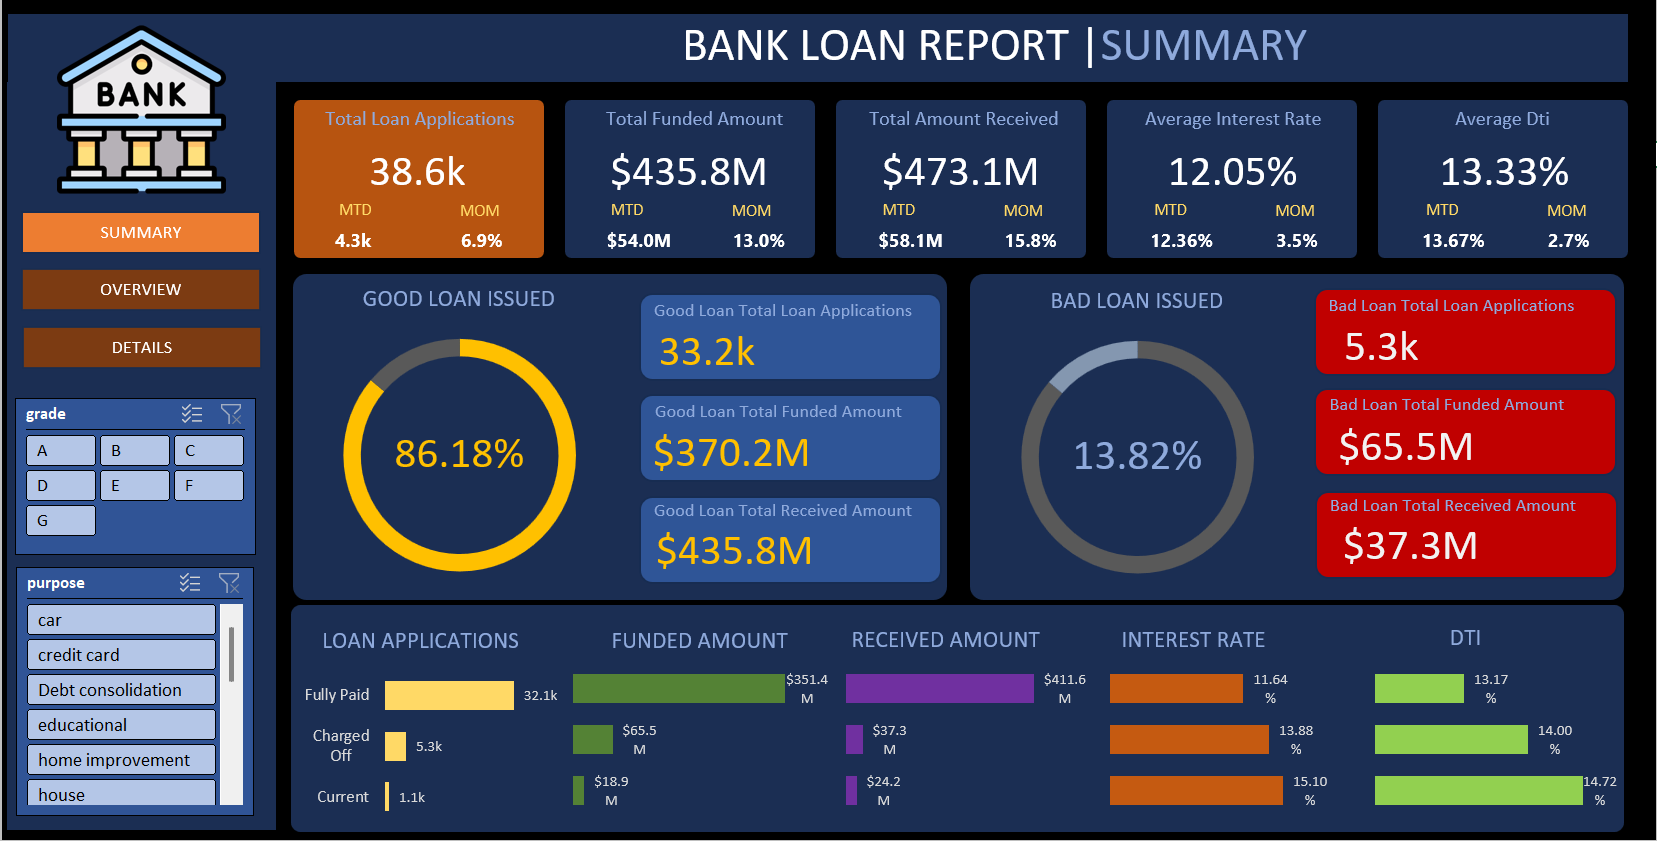

The dashboard page shown, as its layout file describes it:
{"tool":"powerbi","page":{"name":"Summary","canvas":[1280,720],"ordinal":0},"visuals":[{"type":"shape","box":[0,0,1280,55],"z":0},{"type":"shape","box":[1057.1,65.7,195,117],"z":0,"group":"g5"},{"type":"shape","box":[209,67,195,117],"z":0,"group":"g1"},{"type":"shape","box":[421.4,67,195,117],"z":0,"group":"g2"},{"type":"shape","box":[633.7,67,195,117],"z":0,"group":"g3"},{"type":"shape","box":[846.1,67.1,195,117],"z":0,"group":"g4"},{"type":"shape","box":[0,55,192,665],"z":1000},{"type":"card","fields":{"Values":["Measure table.Average_DTI"]},"box":[1075.1,73.7,159,75],"z":1000,"group":"g5"},{"type":"card","fields":{"Values":["Measure table.Total_Loan_Application"]},"box":[236,75,147,69],"z":1000,"group":"g1"},{"type":"card","fields":{"Values":["Measure table.Total Funded Amount"]},"box":[439.4,75,159,75],"z":1000,"group":"g2"},{"type":"card","fields":{"Values":["Measure table.Total Received Amount"]},"box":[651.7,75,159,75],"z":1000,"group":"g3"},{"type":"card","fields":{"Values":["Measure table.Average_interest_rate"]},"box":[864.1,75.1,159,75],"z":1000,"group":"g4"},{"type":"textbox","box":[1059.1,73.7,195,32],"z":2000,"group":"g5"},{"type":"textbox","box":[211,75,195,32],"z":2000,"group":"g1"},{"type":"textbox","box":[423.4,75,195,32],"z":2000,"group":"g2"},{"type":"textbox","box":[635.7,75,195,32],"z":2000,"group":"g3"},{"type":"textbox","box":[848.1,75.1,195,32],"z":2000,"group":"g4"},{"type":"textbox","box":[212.2,207.8,194.4,32.2],"z":2000},{"type":"card","title":"MTD","fields":{"Values":["Measure table.MTD_Avg_dti"]},"box":[1071.1,124.7,66,58],"z":3000,"group":"g5"},{"type":"card","title":"MTD","fields":{"Values":["Measure table.MTD_Loan_Application"]},"box":[223,126,66,58],"z":3000,"group":"g1"},{"type":"card","title":"MTD","fields":{"Values":["Measure table.MTD_funded_amount"]},"box":[435.4,126,66,58],"z":3000,"group":"g2"},{"type":"card","title":"MTD","fields":{"Values":["Measure table.MTD_Received_amount"]},"box":[647.7,126,66,58],"z":3000,"group":"g3"},{"type":"card","title":"MTD","fields":{"Values":["Measure table.MTD_interest_rate"]},"box":[860.1,126.1,66,58],"z":3000,"group":"g4"},{"type":"textbox","box":[223.3,202.2,194.4,32.2],"z":3000},{"type":"card","title":"MOM","fields":{"Values":["Measure table.Mom Average DTI"]},"box":[1165.1,124.7,66,58],"z":4000,"group":"g5"},{"type":"card","title":"MOM","fields":{"Values":["Measure table.mom Loan Application"]},"box":[317,126,66,58],"z":4000,"group":"g1"},{"type":"card","title":"MOM","fields":{"Values":["Measure table.Mom funded Amount"]},"box":[529.4,126,66,58],"z":4000,"group":"g2"},{"type":"card","title":"MOM","fields":{"Values":["Measure table.Mom Received Amount"]},"box":[741.7,126,66,58],"z":4000,"group":"g3"},{"type":"card","title":"MOM","fields":{"Values":["Measure table.Mom interest Rate"]},"box":[954.1,126.1,66,58],"z":4000,"group":"g4"},{"type":"shape","box":[197.8,202.2,522,260],"z":4000},{"type":"textbox","box":[416,7,448,43],"z":5000},{"type":"group","id":"g1","title":"Group 1","box":[209,67,197,117],"z":6000},{"type":"group","id":"g2","title":"Group 1","box":[421.4,67,197,117],"z":7000},{"type":"group","id":"g3","title":"Group 1","box":[633.7,67,197,117],"z":8000},{"type":"group","id":"g4","title":"Group 1","box":[846.1,67.1,195.7,117.1],"z":9000},{"type":"group","id":"g5","title":"Group 1","box":[1057.1,65.7,197.1,115.7],"z":10000},{"type":"shape","box":[732.2,202.2,522.2,260],"z":11000},{"type":"donutChart","fields":{"Category":["financial_loan.Good vs Bad Loan"],"Y":["Measure table.Total_Loan_Application"]},"box":[197.8,234.4,250,220],"z":12000},{"type":"card","fields":{"Values":["financial_loan.Good Loan %"]},"box":[250,305.6,147.8,68.9],"z":13000},{"type":"cardVisual","fields":{"Data":["Date Table.Good loan total application","Date Table.Good loan funded amount","Date Table.Good loan Received Amount"]},"box":[415.6,204.4,305.6,257.8],"z":14000},{"type":"donutChart","fields":{"Category":["financial_loan.Good vs Bad Loan"],"Y":["Measure table.Total_Loan_Application"]},"box":[734.7,234.9,250.5,218.1],"z":15000},{"type":"textbox","box":[749.1,208.5,194.2,32.4],"z":16000},{"type":"card","fields":{"Values":["financial_loan.Bad Loan %"]},"box":[789.8,309.2,147.4,69.5],"z":17000},{"type":"cardVisual","fields":{"Data":["Date Table.Bad Loan Total Application","Date Table.Bad Loan Funded Amount","Date Table.Bad Loan Received Amount"]},"box":[946.8,203.7,305.6,257.7],"z":18000},{"type":"shape","box":[197.2,474.6,1057.7,235.2],"z":19000},{"type":"tableEx","fields":{"Values":["financial_loan.loan_status","Measure table.Total_Loan_Application","Measure table.Total Funded Amount","Measure table.Total Received Amount","Measure table.MTD_funded_amount","Measure table.MTD_Received_amount","Measure table.Average_interest_rate","Measure table.Average_DTI"]},"box":[202.8,502.8,1056.3,207],"z":20000},{"type":"textbox","box":[211.3,474.6,194.4,32.4],"z":21000},{"type":"slicer","fields":{"Values":["financial_loan.address_state"]},"box":[9.9,387.3,171.8,43.7],"z":22000},{"type":"textbox","box":[9.9,367.6,85.9,32.4],"z":23000},{"type":"textbox","box":[212.5,208.8,195,32.5],"z":24000},{"type":"slicer","fields":{"Values":["financial_loan.grade"]},"box":[9.9,481.7,171.8,43.7],"z":25000},{"type":"textbox","box":[9.9,459.2,85.9,32.4],"z":26000},{"type":"slicer","fields":{"Values":["financial_loan.purpose"]},"box":[9.9,571.8,171.8,43.7],"z":27000},{"type":"textbox","box":[11.3,553.5,85.9,40.8],"z":28000},{"type":"image","box":[26.2,26.2,132.5,123.8],"z":29000},{"type":"pageNavigator","box":[11.2,182.5,170,162.5],"z":30000}]}

Visuals, with their boxes on the page's 1280x720 design canvas (x1, y1, x2, y2). These are canvas units, not pixel positions in the 1657x841 screenshot, which may show the page scaled, cropped or inside an application window:
shape: (left=0, top=0, right=1280, bottom=55)
shape: (left=1057, top=66, right=1252, bottom=183)
shape: (left=209, top=67, right=404, bottom=184)
shape: (left=421, top=67, right=616, bottom=184)
shape: (left=634, top=67, right=829, bottom=184)
shape: (left=846, top=67, right=1041, bottom=184)
shape: (left=0, top=55, right=192, bottom=720)
card - Measure table.Average_DTI: (left=1075, top=74, right=1234, bottom=149)
card - Measure table.Total_Loan_Application: (left=236, top=75, right=383, bottom=144)
card - Measure table.Total Funded Amount: (left=439, top=75, right=598, bottom=150)
card - Measure table.Total Received Amount: (left=652, top=75, right=811, bottom=150)
card - Measure table.Average_interest_rate: (left=864, top=75, right=1023, bottom=150)
textbox: (left=1059, top=74, right=1254, bottom=106)
textbox: (left=211, top=75, right=406, bottom=107)
textbox: (left=423, top=75, right=618, bottom=107)
textbox: (left=636, top=75, right=831, bottom=107)
textbox: (left=848, top=75, right=1043, bottom=107)
textbox: (left=212, top=208, right=407, bottom=240)
"MTD" card: (left=1071, top=125, right=1137, bottom=183)
"MTD" card: (left=223, top=126, right=289, bottom=184)
"MTD" card: (left=435, top=126, right=501, bottom=184)
"MTD" card: (left=648, top=126, right=714, bottom=184)
"MTD" card: (left=860, top=126, right=926, bottom=184)
textbox: (left=223, top=202, right=418, bottom=234)
"MOM" card: (left=1165, top=125, right=1231, bottom=183)
"MOM" card: (left=317, top=126, right=383, bottom=184)
"MOM" card: (left=529, top=126, right=595, bottom=184)
"MOM" card: (left=742, top=126, right=808, bottom=184)
"MOM" card: (left=954, top=126, right=1020, bottom=184)
shape: (left=198, top=202, right=720, bottom=462)
textbox: (left=416, top=7, right=864, bottom=50)
"Group 1" group: (left=209, top=67, right=406, bottom=184)
"Group 1" group: (left=421, top=67, right=618, bottom=184)
"Group 1" group: (left=634, top=67, right=831, bottom=184)
"Group 1" group: (left=846, top=67, right=1042, bottom=184)
"Group 1" group: (left=1057, top=66, right=1254, bottom=181)
shape: (left=732, top=202, right=1254, bottom=462)
donutChart - financial_loan.Good vs Bad Loan x Measure table.Total_Loan_Application: (left=198, top=234, right=448, bottom=454)
card - financial_loan.Good Loan %: (left=250, top=306, right=398, bottom=374)
cardVisual - Date Table.Good loan total application x Date Table.Good loan funded amount: (left=416, top=204, right=721, bottom=462)
donutChart - financial_loan.Good vs Bad Loan x Measure table.Total_Loan_Application: (left=735, top=235, right=985, bottom=453)
textbox: (left=749, top=208, right=943, bottom=241)
card - financial_loan.Bad Loan %: (left=790, top=309, right=937, bottom=379)
cardVisual - Date Table.Bad Loan Total Application x Date Table.Bad Loan Funded Amount: (left=947, top=204, right=1252, bottom=461)
shape: (left=197, top=475, right=1255, bottom=710)
tableEx - financial_loan.loan_status x Measure table.Total_Loan_Application: (left=203, top=503, right=1259, bottom=710)
textbox: (left=211, top=475, right=406, bottom=507)
slicer - financial_loan.address_state: (left=10, top=387, right=182, bottom=431)
textbox: (left=10, top=368, right=96, bottom=400)
textbox: (left=212, top=209, right=408, bottom=241)
slicer - financial_loan.grade: (left=10, top=482, right=182, bottom=525)
textbox: (left=10, top=459, right=96, bottom=492)
slicer - financial_loan.purpose: (left=10, top=572, right=182, bottom=616)
textbox: (left=11, top=554, right=97, bottom=594)
image: (left=26, top=26, right=159, bottom=150)
pageNavigator: (left=11, top=182, right=181, bottom=345)
